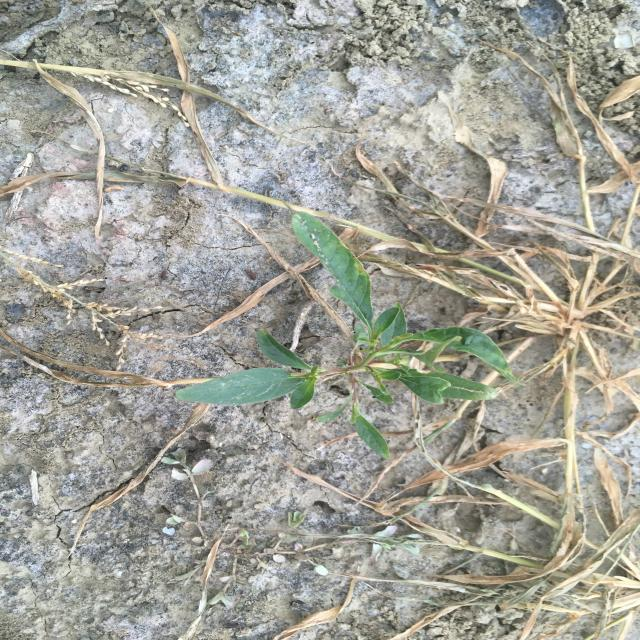Waterhemp: (174, 211, 529, 462)
